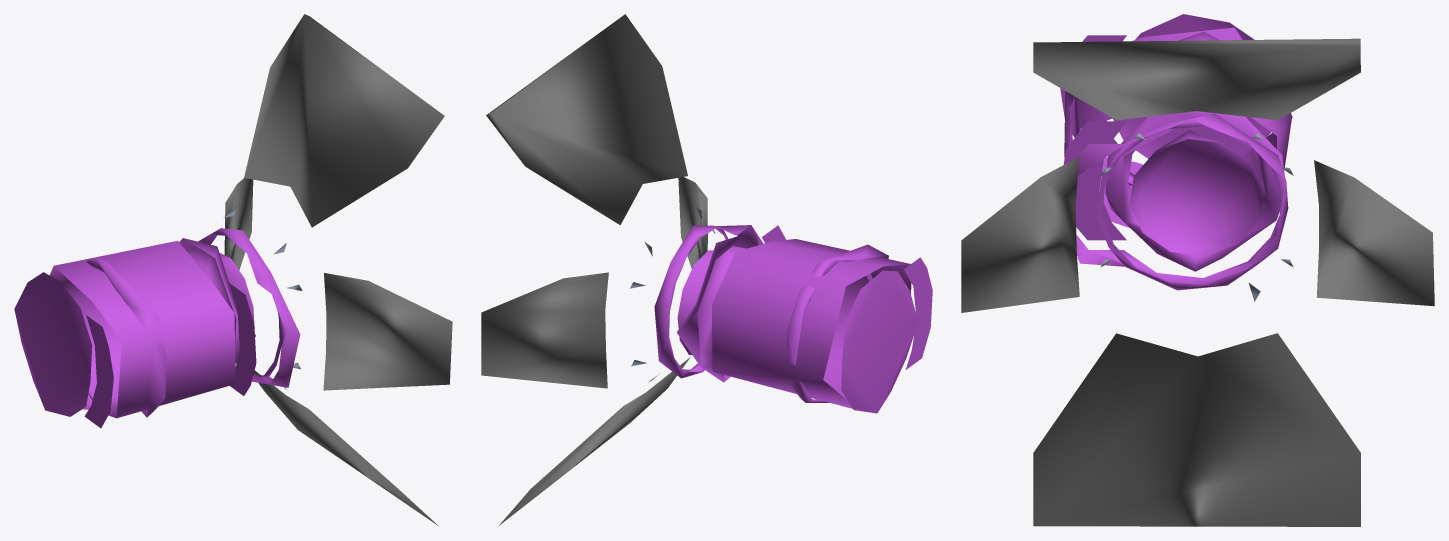
Rendered from LamparaSuelo_optim.obj.
3 renders of one model, left to right at view 1: azimuth 30°, elevation 25°; view 2: azimuth 150°, elevation 25°; view 3: azimuth 270°, elevation 25°, orthographic. The views are drawn at different scales.
Parts seen in each view (by area): view 1: LamparaSuelo; view 2: LamparaSuelo; view 3: LamparaSuelo.
Part boxes in pixels (x1,y1,x2,y2): LamparaSuelo: [14, 14, 452, 525]; LamparaSuelo: [481, 14, 932, 526]; LamparaSuelo: [961, 14, 1434, 526].
Size of the model in its own units: 2.1 by 2.53 by 2.21.
